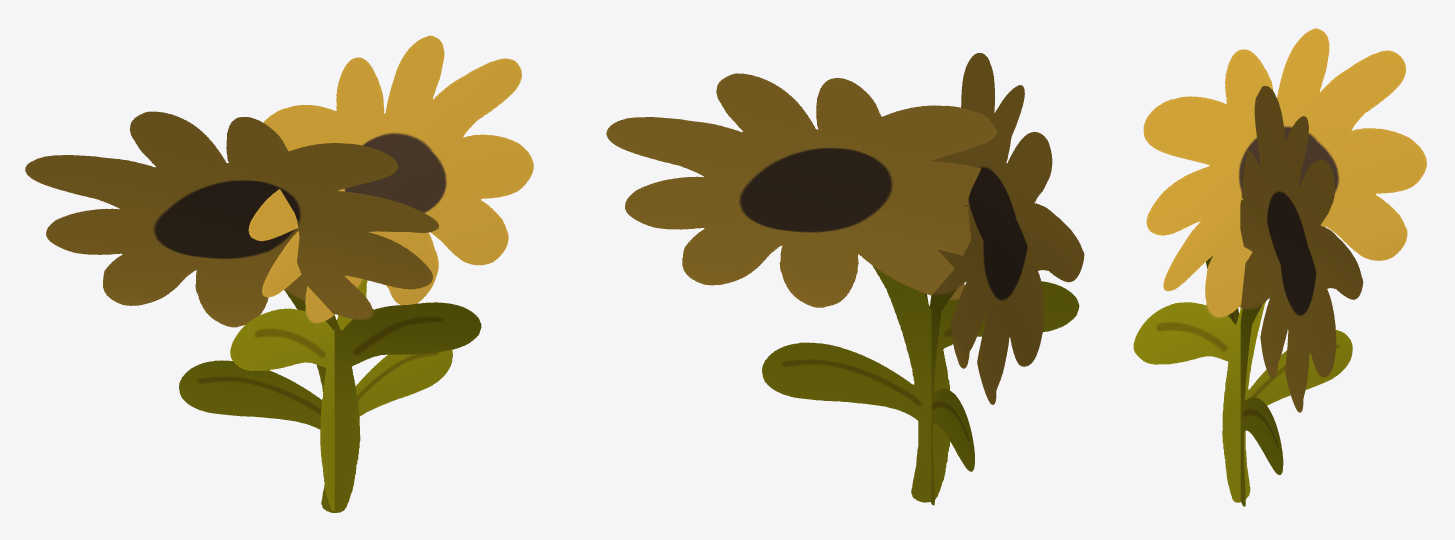
File: SunflowerDuo.fbx
The picture shows the model from 3 angles, left to right: view 1: azimuth 30°, elevation 25°; view 2: azimuth 150°, elevation 25°; view 3: azimuth 270°, elevation 25°; orthographic projection. The views are drawn at different scales.
Parts seen in each view (by area): view 1: sunflowers2, sunflowers1; view 2: sunflowers1, sunflowers2; view 3: sunflowers2, sunflowers1.
Boxes of the visible parts, bbox=[...] form: sunflowers2: bbox=[25, 111, 481, 512]; sunflowers1: bbox=[230, 35, 533, 511]; sunflowers1: bbox=[606, 73, 1079, 502]; sunflowers2: bbox=[925, 53, 1084, 505]; sunflowers2: bbox=[1133, 28, 1426, 502]; sunflowers1: bbox=[1206, 86, 1363, 506].
Bounding box in the file's own units: 1.24 × 0.9963 × 0.6772.
